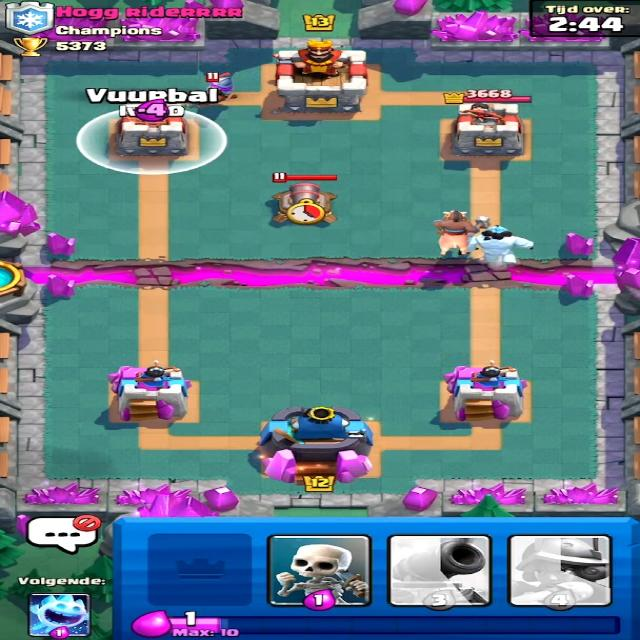Cannon_Card: (367, 543, 497, 605)
Hog_Rider_Troop: (419, 204, 495, 257)
Ice_Golem_Troop: (465, 222, 534, 266)
Musketeer_Card: (510, 534, 614, 607)
Skeleton_Card: (267, 536, 364, 604)
